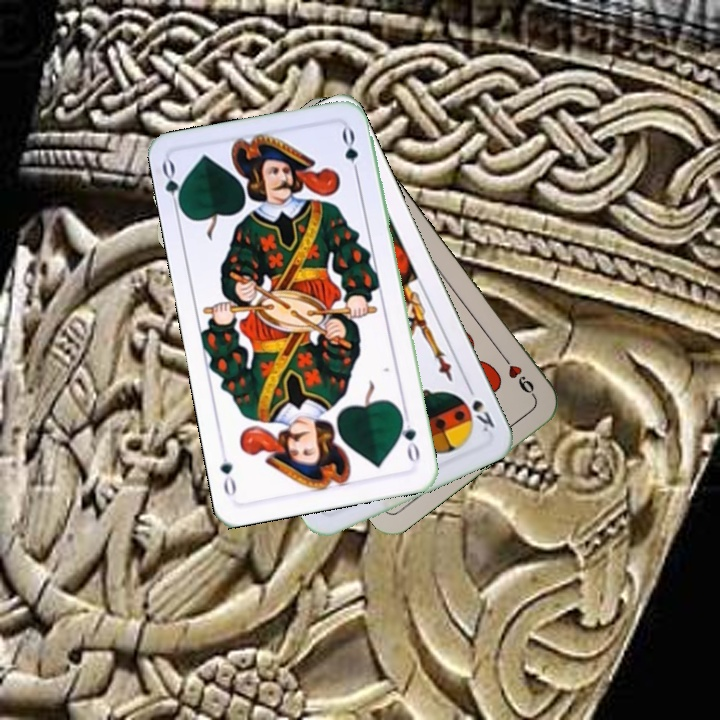GO: (158, 157, 187, 216), (395, 408, 423, 465)
H9: (497, 350, 538, 401)
SK: (462, 380, 498, 435)
